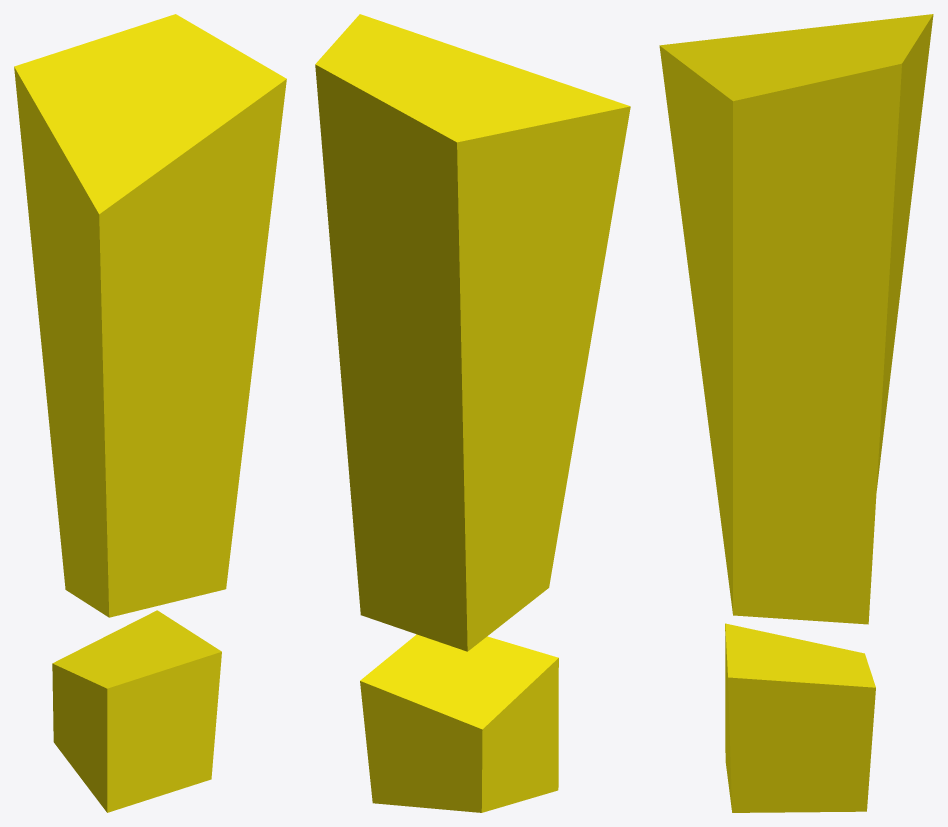
The model's file is Interest.glb.
The picture shows the model from 3 angles, left to right: view 1: azimuth 30°, elevation 25°; view 2: azimuth 150°, elevation 25°; view 3: azimuth 270°, elevation 25°; orthographic projection. The views are drawn at different scales.
Parts seen in each view (by area): view 1: Cube; view 2: Cube; view 3: Cube.
Part boxes in pixels (left/top/right/bottom): Cube: left=14, top=14, right=286, bottom=812; Cube: left=315, top=14, right=630, bottom=812; Cube: left=659, top=14, right=933, bottom=812.
Bounding box in the file's own units: 4.99 × 15.18 × 4.85.
